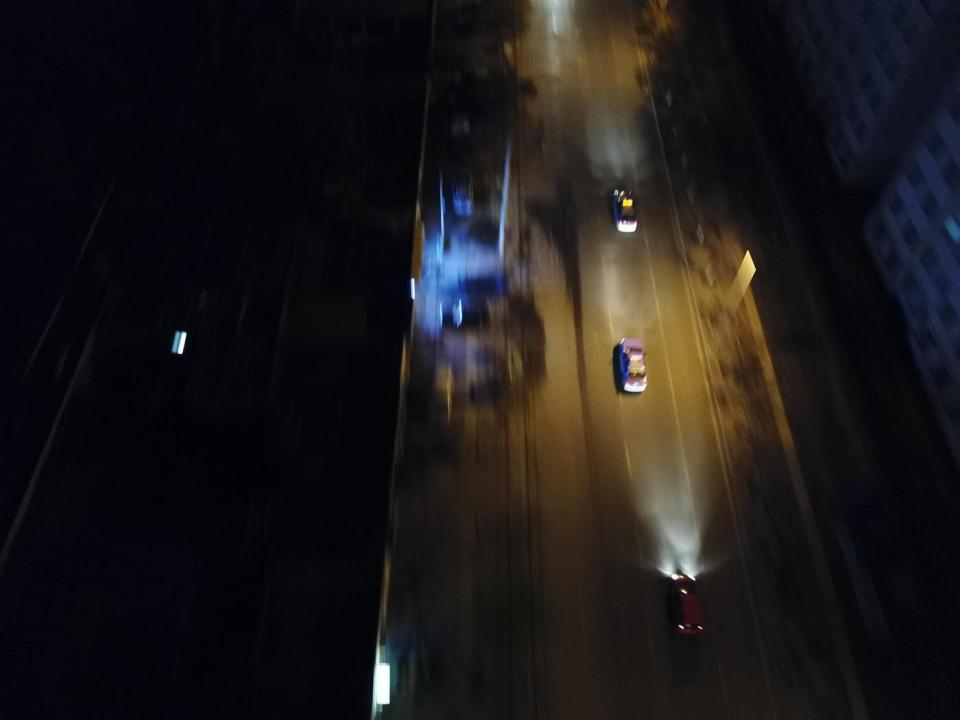car: (668, 572, 703, 635), (620, 338, 647, 392), (613, 187, 637, 232), (451, 167, 473, 215), (449, 63, 492, 84), (449, 93, 471, 134)
